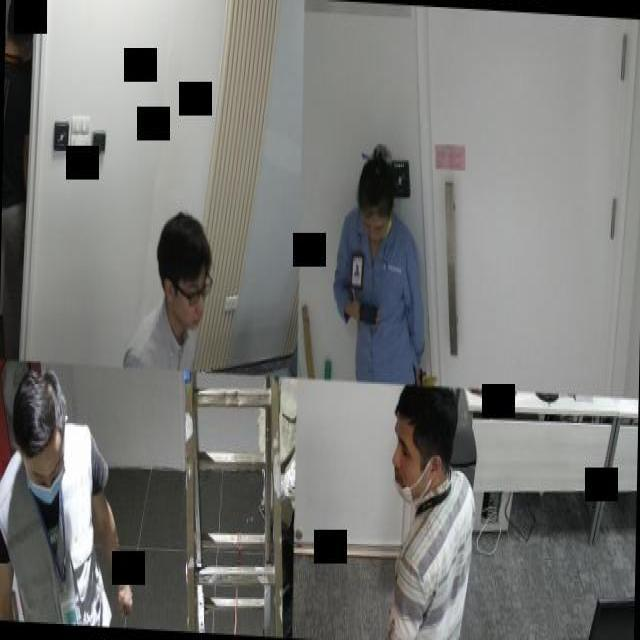hairnet: (392, 422, 424, 508)
